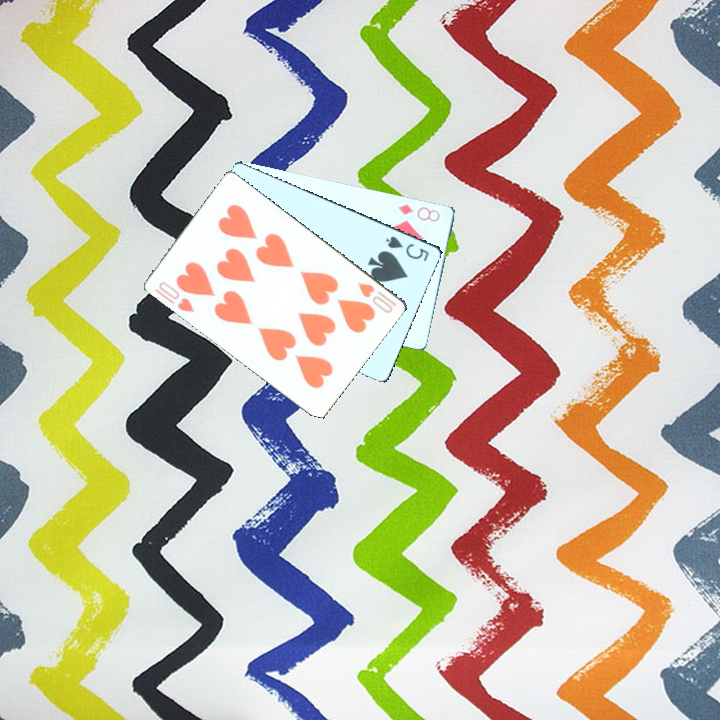10h: (353, 278, 395, 316), (155, 277, 197, 315)
5s: (381, 232, 431, 264)
8d: (393, 199, 443, 225)
